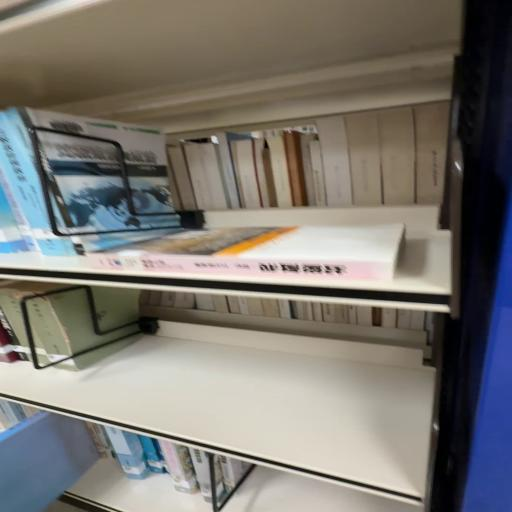flat: (88, 224, 405, 281)
